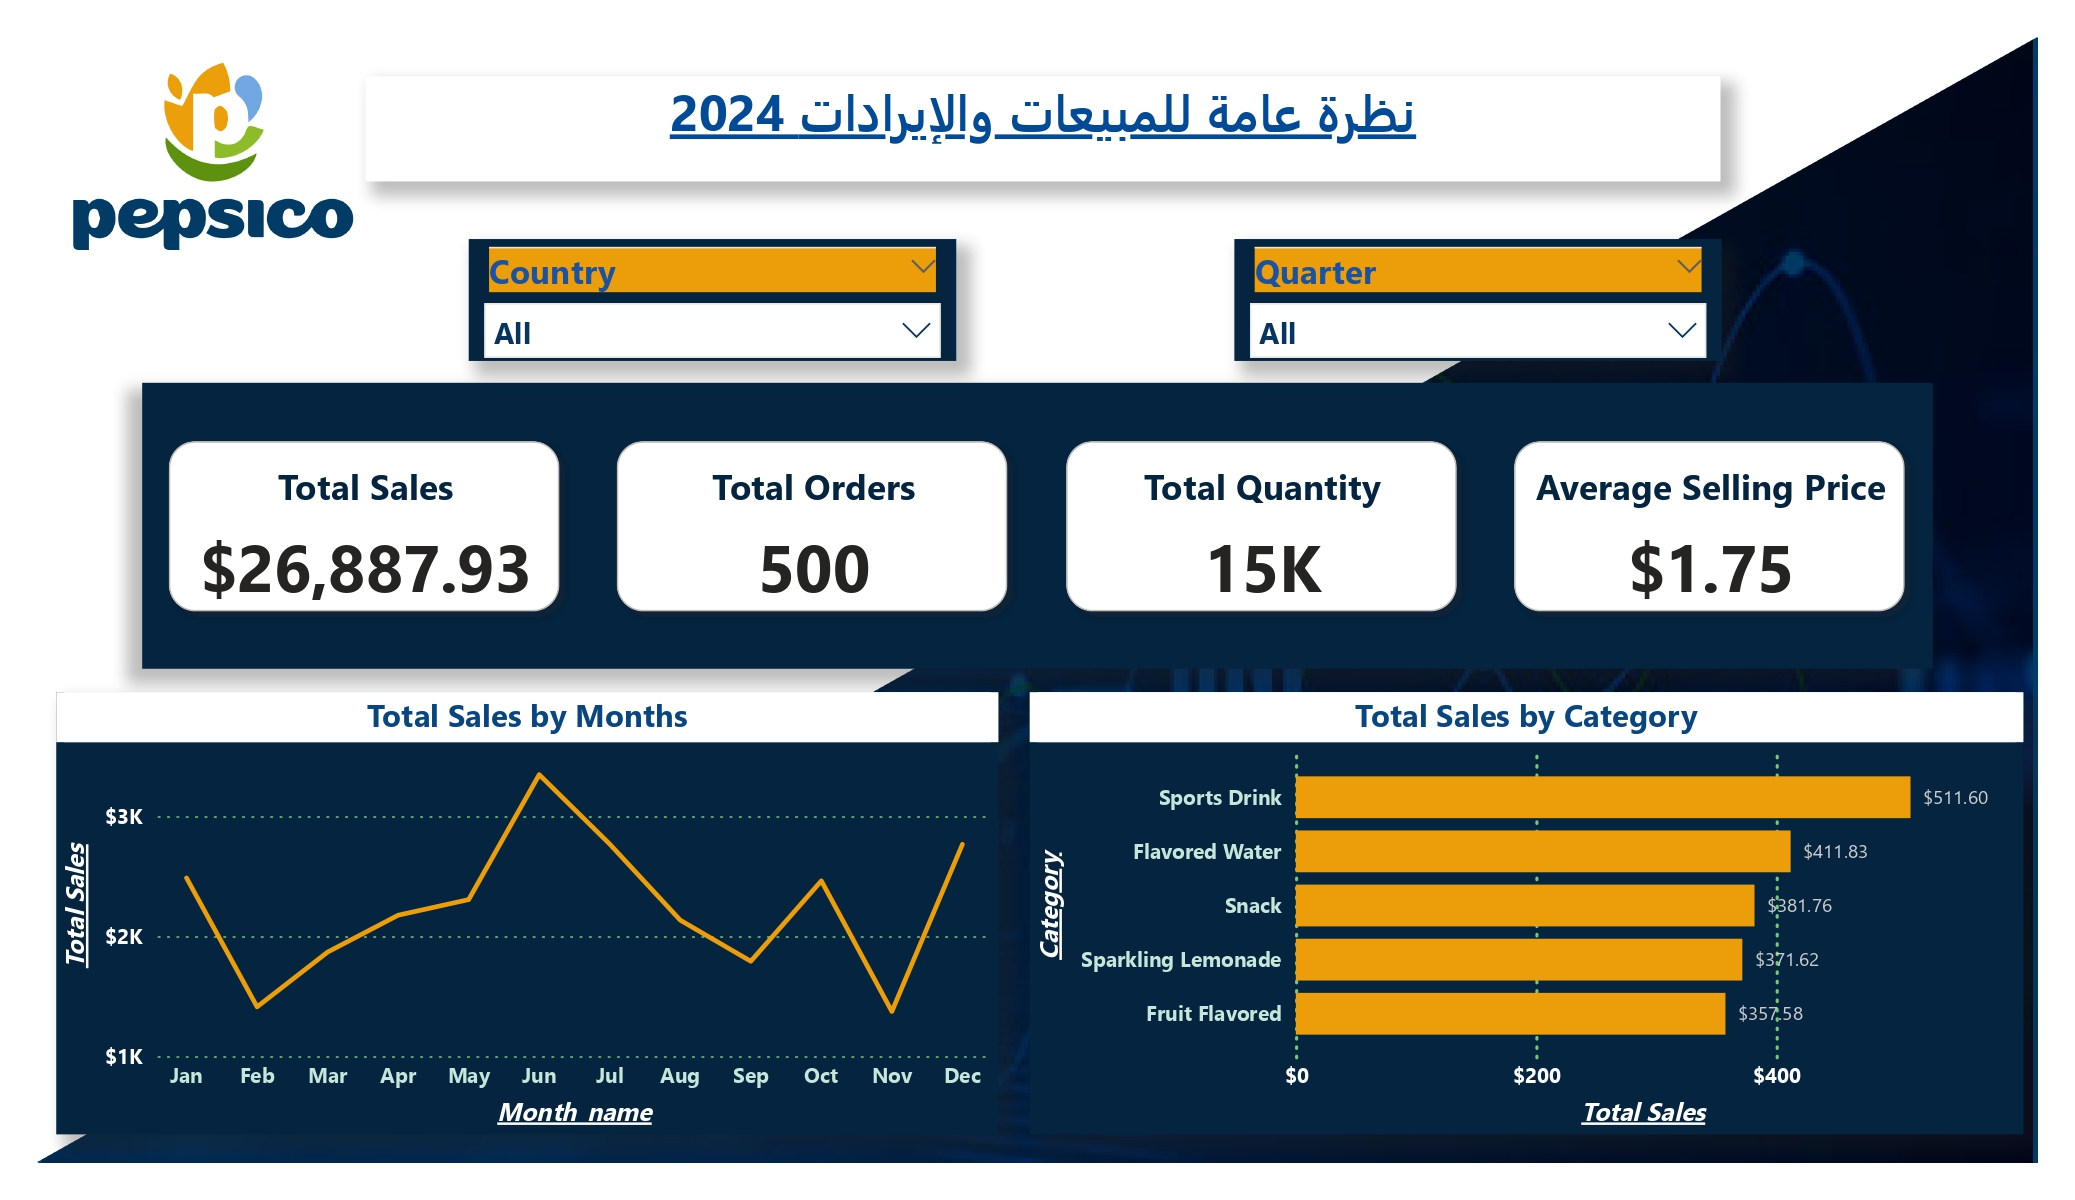

The dashboard page shown, as its layout file describes it:
{"tool":"powerbi","page":{"name":"Overview","canvas":[1280,720],"ordinal":0},"visuals":[{"type":"cardVisual","fields":{"Data":["InvoiceDetails.Total Sales","InvoiceDetails.Total Order","InvoiceDetails.Total Quantity","InvoiceDetails.Avrage Selling Price"]},"box":[67.3,221.2,1146.2,182.7],"z":0},{"type":"slicer","fields":{"Values":["Customers.Country"]},"box":[275.6,129.3,312.2,78],"z":1000},{"type":"slicer","fields":{"Values":["Calendar.Quarter"]},"box":[765.9,129.3,312.2,78],"z":2000},{"type":"textbox","title":" 2024 نظرة عامة للمبيعات والإيرادات","box":[209.6,25,867.3,67.3],"z":3000},{"type":"lineChart","title":"Total Sales by Months","fields":{"Y":["InvoiceDetails.Total Sales"],"Category":["Calendar.Month_name"]},"box":[11.5,419.2,603.8,282.7],"z":4000},{"type":"clusteredBarChart","fields":{"Category":["Products.Category"],"Y":["InvoiceDetails.Total Sales"]},"box":[634.6,419.2,636.5,282.7],"z":5000}]}

Visuals, with their boxes on the page's 1280x720 design canvas (x1, y1, x2, y2). These are canvas units, not pixel positions in the 2075x1200 screenshot, which may show the page scaled, cropped or inside an application window:
cardVisual - InvoiceDetails.Total Sales x InvoiceDetails.Total Order: BBox(67, 221, 1214, 404)
slicer - Customers.Country: BBox(276, 129, 588, 207)
slicer - Calendar.Quarter: BBox(766, 129, 1078, 207)
" 2024 نظرة عامة للمبيعات والإيرادات" textbox: BBox(210, 25, 1077, 92)
"Total Sales by Months" lineChart: BBox(12, 419, 615, 702)
clusteredBarChart - Products.Category x InvoiceDetails.Total Sales: BBox(635, 419, 1271, 702)
